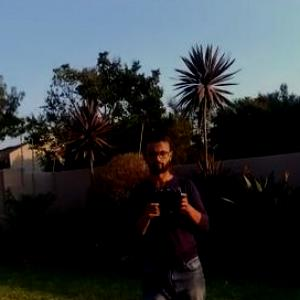follow: (118, 122, 220, 299)
